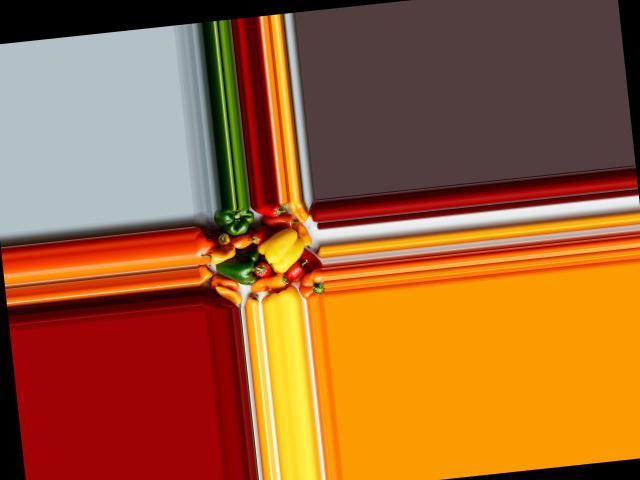bell_pepper: (254, 201, 288, 222)
